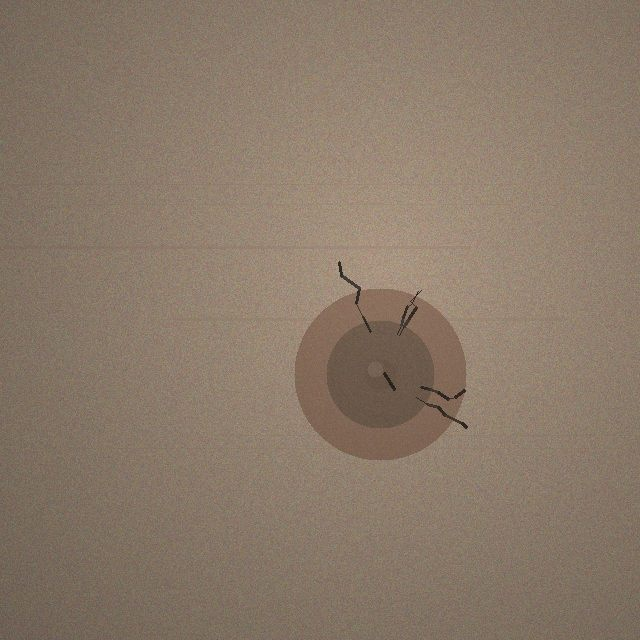crack: (294, 288, 466, 460)
